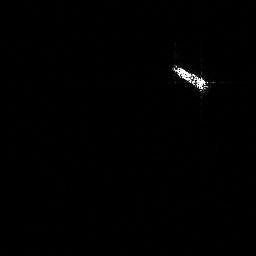ship: (173, 65, 207, 91)
